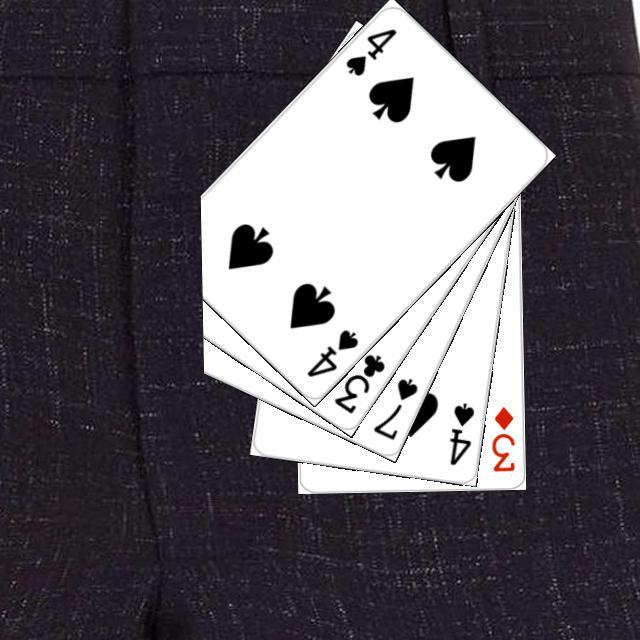3c: (329, 349, 387, 416)
3d: (487, 402, 517, 474)
4s: (301, 324, 360, 379), (340, 23, 399, 78), (444, 397, 476, 467)
7s: (368, 373, 420, 442)
